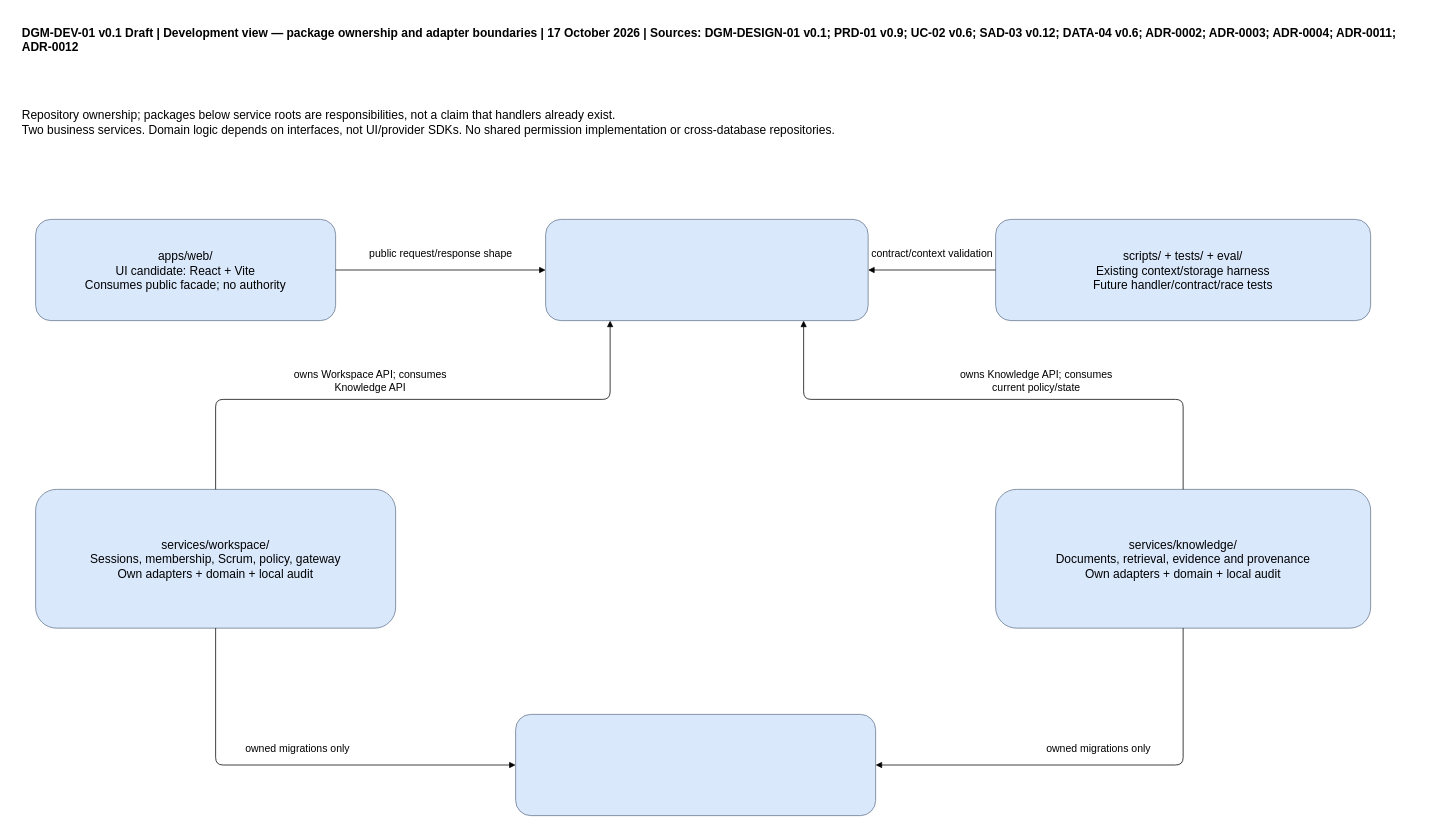
This 1443x829 diagram has some shape labels left out. The centre of each missing label's shape, as x and y in pixels:
"contracts/ HTTP/event/data definitions Shared shape, not copied policy rules" goes at (x=706, y=270).
"infra/postgres/ Compose/bootstrap + migration runner Separate store credentials" goes at (x=695, y=765).
